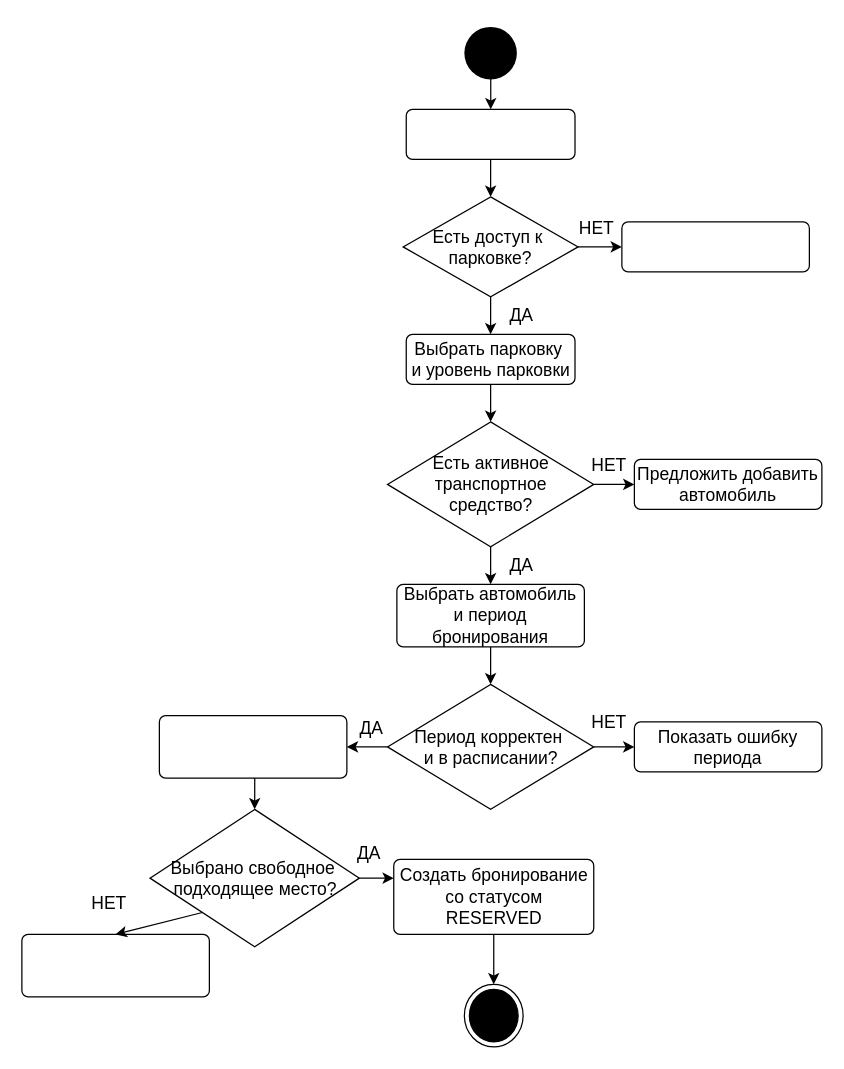
This 844x1069 diagram has some shape labels left out. Each missing label, with the centre of its shape:
"Войти в систему" belongs at point 490,133.
"Выбрать другое место" belongs at point 115,965.
"Показать сообщение: доступ не назначен" belongs at point 715,246.
"Получить доступность мест" belongs at point 252,746.
